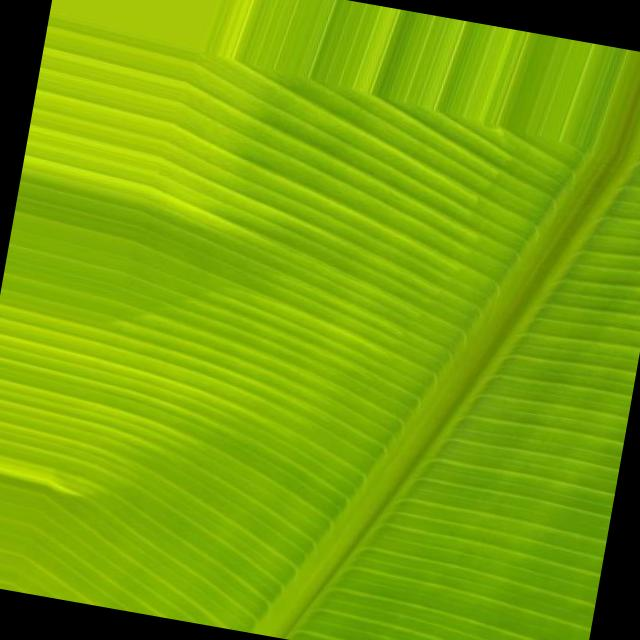Banana_Healthy: (93, 111, 586, 594)
